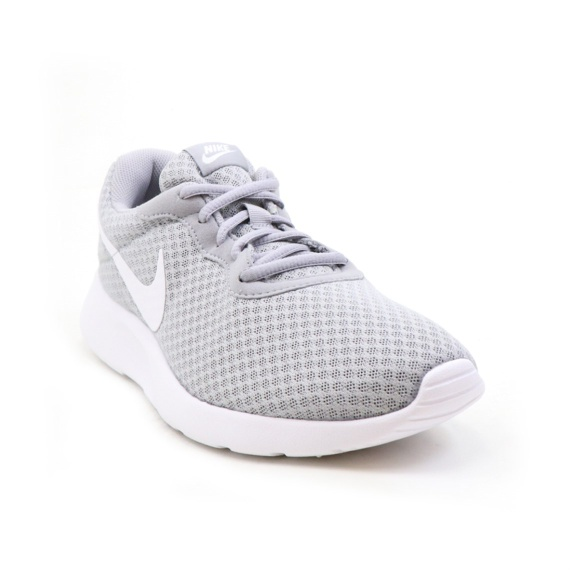nike: (102, 226, 175, 338)
